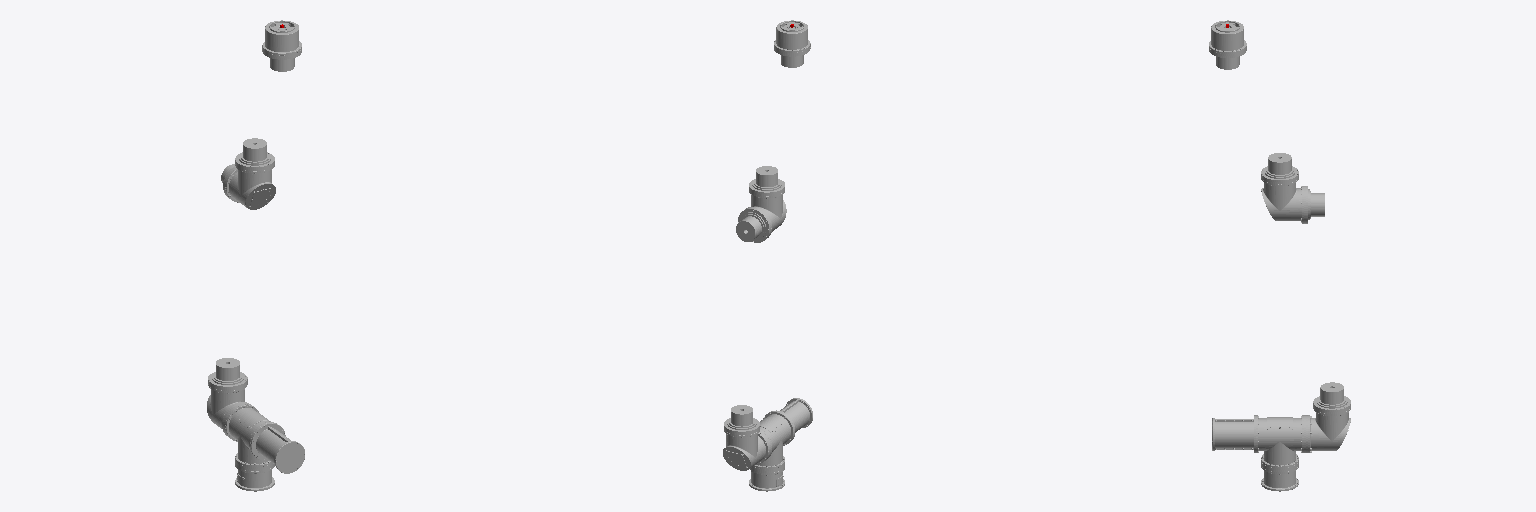
URDF robot description (kari_arm):
<?xml version="1.0" encoding="utf-8"?>
<robot name="kari_arm">
  
  <link name="world"/>
  
  <joint name="world_fixed" type="fixed">
    <origin xyz="0 0 0" rpy="0 0 0"/>
    <parent link="world"/>
    <child link="base"/>
  </joint>

  <link name="base">
    <inertial>
      <origin xyz="-0.00000965 -0.00003686 0.07767998" rpy="0 0 0"/>
      <mass value="3.3436"/>
      <inertia ixx="0.00751250" ixy="-0.00000006" ixz="0.00000167"
               iyy="0.00752435" iyz="-0.00000111" izz="0.00631252"/>
    </inertial>
    <visual>
      <origin xyz="0 0 0" rpy="0 0 0"/>
      <geometry>
        <mesh filename="package://orbit_sim/models/kari_arm/meshes/ASM_J0.STL"/>
      </geometry>
      <material name="grey">
        <color rgba="0.75 0.75 0.75 1"/>
      </material>
    </visual>
    <collision>
      <origin xyz="0 0 0" rpy="0 0 0"/>
      <geometry>
        <mesh filename="package://orbit_sim/models/kari_arm/meshes/ASM_J0.STL"/>
      </geometry>
    </collision>
  </link>

  <link name="link1">
    <inertial>
      <origin xyz="-0.00026892 -0.08021331 0.09358186" rpy="0 0 0"/>
      <mass value="2.1207"/>
      <inertia ixx="0.02665777" ixy="0.00012951" ixz="-0.00002113"
               iyy="0.00821363" iyz="-0.00194208" izz="0.02512228"/>
    </inertial>
    <visual>
      <origin xyz="0 0 0" rpy="0 0 0"/>
      <geometry>
        <mesh filename="package://orbit_sim/models/kari_arm/meshes/ASM_J1.STL"/>
      </geometry>
      <material name="grey"/>
    </visual>
    <collision>
      <origin xyz="0 0 0" rpy="0 0 0"/>
      <geometry>
        <mesh filename="package://orbit_sim/models/kari_arm/meshes/ASM_J1.STL"/>
      </geometry>
    </collision>
  </link>

  <joint name="joint1" type="revolute">
    <origin xyz="0 0 0.094" rpy="0 0 0"/>
    <parent link="base"/>
    <child link="link1"/>
    <axis xyz="0 0 1"/>
    <limit lower="-3.14" upper="3.14" effort="65" velocity="0.17453"/>
  </joint>

  <link name="link2">
    <inertial>
      <origin xyz="0.0 0.06124762 0.05639568" rpy="0 0 0"/>
      <mass value="6.6621"/>
      <inertia ixx="0.05097328" ixy="0.00000002" ixz="0.00000000"
               iyy="0.03629437" iyz="0.01622322" izz="0.02722892"/>
    </inertial>
    <visual>
      <origin xyz="0 0 0" rpy="0 0 0"/>
      <geometry>
        <mesh filename="package://orbit_sim/models/kari_arm/meshes/ASM_J2.STL"/>
      </geometry>
      <material name="grey"/>
    </visual>
    <collision>
      <origin xyz="0 0 0" rpy="0 0 0"/>
      <geometry>
        <mesh filename="package://orbit_sim/models/kari_arm/meshes/ASM_J2.STL"/>
      </geometry>
    </collision>
  </link>

  <joint name="joint2" type="revolute">
    <origin xyz="0 0.088 0.105" rpy="0 0 0"/>
    <parent link="link1"/>
    <child link="link2"/>
    <axis xyz="0 1 0"/>
    <limit lower="-3.14" upper="3.14" effort="65" velocity="0.17453"/>
  </joint>

  <link name="link3">
    <inertial>
      <origin xyz="-0.00033293 -0.00482569 0.40191520" rpy="0 0 0"/>
      <mass value="4.0005"/>
      <inertia ixx="0.29888290" ixy="-0.00000478" ixz="0.00033497"
               iyy="0.29796389" iyz="-0.00781668" izz="0.01207673"/>
    </inertial>
    <visual>
      <origin xyz="0 0 0" rpy="0 0 0"/>
      <geometry>
        <mesh filename="package://orbit_sim/models/kari_arm/meshes/ASM_J3.STL"/>
      </geometry>
      <material name="grey"/>
    </visual>
    <collision>
      <origin xyz="0 0 0" rpy="0 0 0"/>
      <geometry>
        <mesh filename="package://orbit_sim/models/kari_arm/meshes/ASM_J3.STL"/>
      </geometry>
    </collision>
  </link>

  <joint name="joint3" type="revolute">
    <origin xyz="0 0.104 0.131" rpy="0 0 0"/>
    <parent link="link2"/>
    <child link="link3"/>
    <axis xyz="0 0 1"/>
    <limit lower="-3.14" upper="3.14" effort="65" velocity="0.17453"/>
  </joint>

  <link name="link4">
    <inertial>
      <origin xyz="0.0 -0.06124762 0.05639568" rpy="0 0 0"/>
      <mass value="6.66208"/>
      <inertia ixx="0.05097328" ixy="0.00000002" ixz="0.00000000"
               iyy="0.03629437" iyz="-0.01622322" izz="0.02722892"/>
    </inertial>
    <visual>
      <origin xyz="0 0 0" rpy="0 0 0"/>
      <geometry>
        <mesh filename="package://orbit_sim/models/kari_arm/meshes/ASM_J4.STL"/>
      </geometry>
      <material name="grey"/>
    </visual>
    <collision>
      <origin xyz="0 0 0" rpy="0 0 0"/>
      <geometry>
        <mesh filename="package://orbit_sim/models/kari_arm/meshes/ASM_J4.STL"/>
      </geometry>
    </collision>
  </link>

  <joint name="joint4" type="revolute">
    <origin xyz="0 -0.088 0.8" rpy="0 0 0"/>
    <parent link="link3"/>
    <child link="link4"/>
    <axis xyz="0 1 0"/>
    <limit lower="-3.14" upper="3.14" effort="65" velocity="0.17453"/>
  </joint>

  <link name="link5">
    <inertial>
      <origin xyz="-0.00050908 -0.00461248 0.21393427" rpy="0 0 0"/>
      <mass value="2.6161"/>
      <inertia ixx="0.05207280" ixy="-0.00000483" ixz="0.00009635"
               iyy="0.05170972" iyz="-0.00247387" izz="0.00805695"/>
    </inertial>
    <visual>
      <origin xyz="0 0 0" rpy="0 0 0"/>
      <geometry>
        <mesh filename="package://orbit_sim/models/kari_arm/meshes/ASM_J5.STL"/>
      </geometry>
      <material name="grey"/>
    </visual>
    <collision>
      <origin xyz="0 0 0" rpy="0 0 0"/>
      <geometry>
        <mesh filename="package://orbit_sim/models/kari_arm/meshes/ASM_J5.STL"/>
      </geometry>
    </collision>
  </link>

  <joint name="joint5" type="revolute">
    <origin xyz="0 -0.104 0.131" rpy="0 0 0"/>
    <parent link="link4"/>
    <child link="link5"/>
    <axis xyz="0 0 1"/>
    <limit lower="-3.14" upper="3.14" effort="65" velocity="0.17453"/>
  </joint>

  <link name="link6">
    <inertial>
      <origin xyz="0.00011474 -0.05246547 -0.03422529" rpy="0 0 0"/>
      <mass value="4.9702"/>
      <inertia ixx="0.05197714" ixy="-0.00005372" ixz="-0.00015573"
               iyy="0.03740379" iyz="0.01165841" izz="0.02571022"/>
    </inertial>
    <visual>
      <origin xyz="0 0 0" rpy="0 0 0"/>
      <geometry>
        <mesh filename="package://orbit_sim/models/kari_arm/meshes/ASM_J6.STL"/>
      </geometry>
      <material name="grey"/>
    </visual>
    <collision>
      <origin xyz="0 0 0" rpy="0 0 0"/>
      <geometry>
        <mesh filename="package://orbit_sim/models/kari_arm/meshes/ASM_J6.STL"/>
      </geometry>
    </collision>
  </link>

  <joint name="joint6" type="revolute">
    <origin xyz="0 -0.071 0.408" rpy="0 0 0"/>
    <parent link="link5"/>
    <child link="link6"/>
    <axis xyz="0 1 0"/>
    <limit lower="-3.14" upper="3.14" effort="65" velocity="0.17453"/>
  </joint>

  <link name="link7">
    <inertial>
      <origin xyz="0.00000590 0.0 0.01747537" rpy="0 0 0"/>
      <mass value="3.3715"/>
      <inertia ixx="0.00768334" ixy="0.00000000" ixz="0.00000006"
               iyy="0.00768346" iyz="0.00000000" izz="0.00607932"/>
    </inertial>
    <visual>
      <origin xyz="0 0 0" rpy="0 0 0"/>
      <geometry>
        <mesh filename="package://orbit_sim/models/kari_arm/meshes/ASM_J7.STL"/>
      </geometry>
      <material name="grey"/>
    </visual>
    <collision>
      <origin xyz="0 0 0" rpy="0 0 0"/>
      <geometry>
        <mesh filename="package://orbit_sim/models/kari_arm/meshes/ASM_J7.STL"/>
      </geometry>
    </collision>
  </link>

  <joint name="joint7" type="revolute">
    <origin xyz="0 -0.121 0.088" rpy="0 0 0"/>
    <parent link="link6"/>
    <child link="link7"/>
    <axis xyz="0 0 1"/>
    <limit lower="-3.14" upper="3.14" effort="65" velocity="0.17453"/>
  </joint>

  <link name="eef_link">
    <inertial>
      <origin xyz="0 0 0" rpy="0 0 0"/>
      <mass value="0.001"/>
      <inertia ixx="0.000001" ixy="0" ixz="0" iyy="0.000001" iyz="0" izz="0.000001"/>
    </inertial>
    <visual>
      <origin xyz="0 0 0" rpy="0 0 0"/>
      <geometry>
        <box size="0.01 0.01 0.01"/>
      </geometry>
      <material name="red">
        <color rgba="1 0 0 1"/>
      </material>
    </visual>
  </link>

  <joint name="eef_fixed" type="fixed">
    <origin xyz="0 0 0.097" rpy="0 0 0"/>
    <parent link="link7"/>
    <child link="eef_link"/>
  </joint>

  <!-- ========== ros2_control ========== -->
  <ros2_control name="GazeboSimSystem" type="system">
    <hardware>
      <plugin>gz_ros2_control/GazeboSimSystem</plugin>
    </hardware>
    <joint name="joint1">
      <command_interface name="effort">
        <param name="min">-65</param>
        <param name="max">65</param>
      </command_interface>
      <state_interface name="position"/>
      <state_interface name="velocity"/>
      <state_interface name="effort"/>
    </joint>
    <joint name="joint2">
      <command_interface name="effort">
        <param name="min">-65</param>
        <param name="max">65</param>
      </command_interface>
      <state_interface name="position"/>
      <state_interface name="velocity"/>
      <state_interface name="effort"/>
    </joint>
    <joint name="joint3">
      <command_interface name="effort">
        <param name="min">-65</param>
        <param name="max">65</param>
      </command_interface>
      <state_interface name="position"/>
      <state_interface name="velocity"/>
      <state_interface name="effort"/>
    </joint>
    <joint name="joint4">
      <command_interface name="effort">
        <param name="min">-65</param>
        <param name="max">65</param>
      </command_interface>
      <state_interface name="position"/>
      <state_interface name="velocity"/>
      <state_interface name="effort"/>
    </joint>
    <joint name="joint5">
      <command_interface name="effort">
        <param name="min">-65</param>
        <param name="max">65</param>
      </command_interface>
      <state_interface name="position"/>
      <state_interface name="velocity"/>
      <state_interface name="effort"/>
    </joint>
    <joint name="joint6">
      <command_interface name="effort">
        <param name="min">-65</param>
        <param name="max">65</param>
      </command_interface>
      <state_interface name="position"/>
      <state_interface name="velocity"/>
      <state_interface name="effort"/>
    </joint>
    <joint name="joint7">
      <command_interface name="effort">
        <param name="min">-65</param>
        <param name="max">65</param>
      </command_interface>
      <state_interface name="position"/>
      <state_interface name="velocity"/>
      <state_interface name="effort"/>
    </joint>
  </ros2_control>

</robot>

--- Facts derived from the render (not from the file) ---
The picture shows the robot from 3 angles, left to right: view 1: azimuth 30°, elevation 25°; view 2: azimuth 150°, elevation 25°; view 3: azimuth 270°, elevation 25°; orthographic projection.
Robot: kari_arm — 10 links, 9 joints (7 revolute, 2 fixed); root link world; default pose: every joint at zero.
Visible links, largest first — view 1: link1, link4, link2, link7, base; view 2: link4, link2, link1, link7, base; view 3: link1, link4, link2, link7, base.
Boxes of the visible links, bbox=[...] form: link1: bbox=[225, 404, 304, 473]; link4: bbox=[221, 138, 275, 209]; link2: bbox=[207, 358, 250, 435]; link7: bbox=[262, 20, 301, 71]; base: bbox=[235, 460, 274, 491]; link4: bbox=[736, 166, 786, 242]; link2: bbox=[723, 405, 770, 470]; link1: bbox=[753, 398, 812, 468]; link7: bbox=[774, 20, 810, 67]; base: bbox=[749, 464, 784, 491]; link1: bbox=[1212, 415, 1303, 467]; link4: bbox=[1261, 153, 1324, 223]; link2: bbox=[1304, 382, 1350, 452]; link7: bbox=[1209, 20, 1246, 69]; base: bbox=[1261, 462, 1298, 491].
Bounding box of the posed robot: 0.14 × 0.524 × 1.86 m (x, y, z).
Meshes: 8 distinct files referenced, 5 mesh visuals loaded (5 binary STL); not drawn: 3 (reference not matched to a file when rendering).
